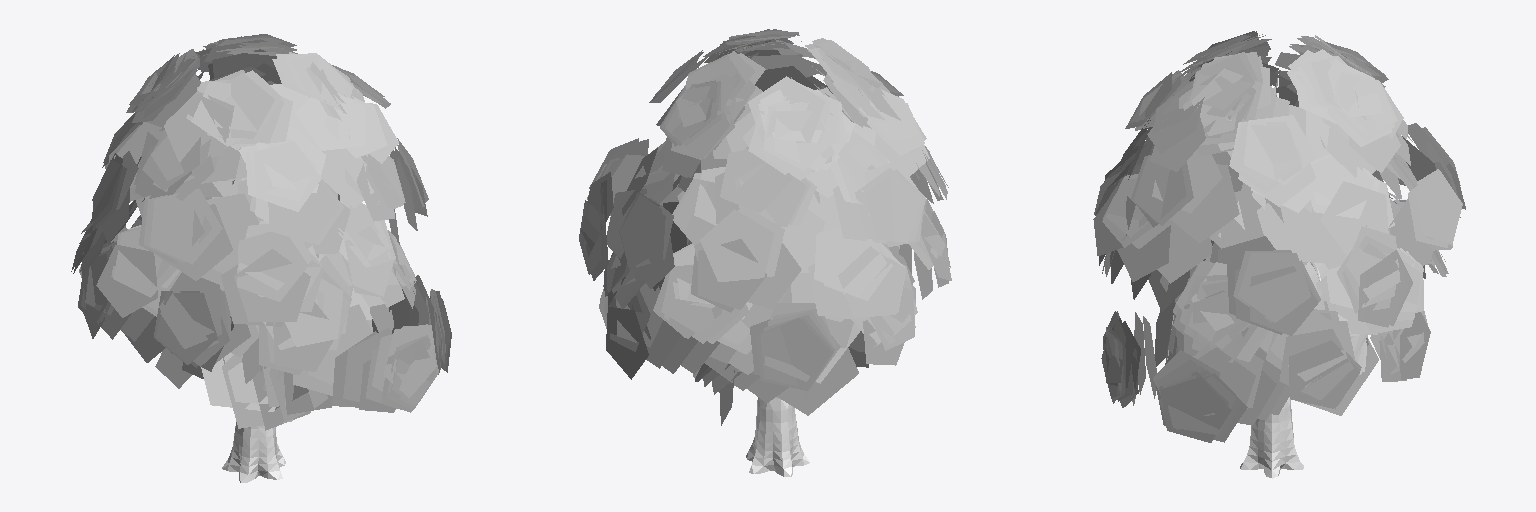
File: Small_Tree.obj
3 renders of one model, left to right at view 1: azimuth 30°, elevation 25°; view 2: azimuth 150°, elevation 25°; view 3: azimuth 270°, elevation 25°, orthographic.
Parts seen in each view (by area): view 1: tree; view 2: tree; view 3: tree.
Part boxes in pixels (x1,y1,x2,y2): tree: (71,34,451,482); tree: (579,29,951,476); tree: (1093,31,1465,478).
Bounding box in the file's own units: 6.62 × 8.03 × 6.47.